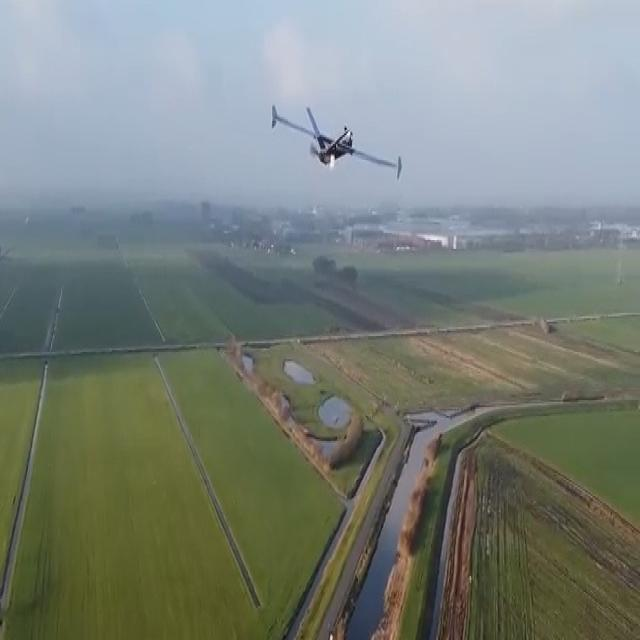drones: (268, 89, 412, 188)
